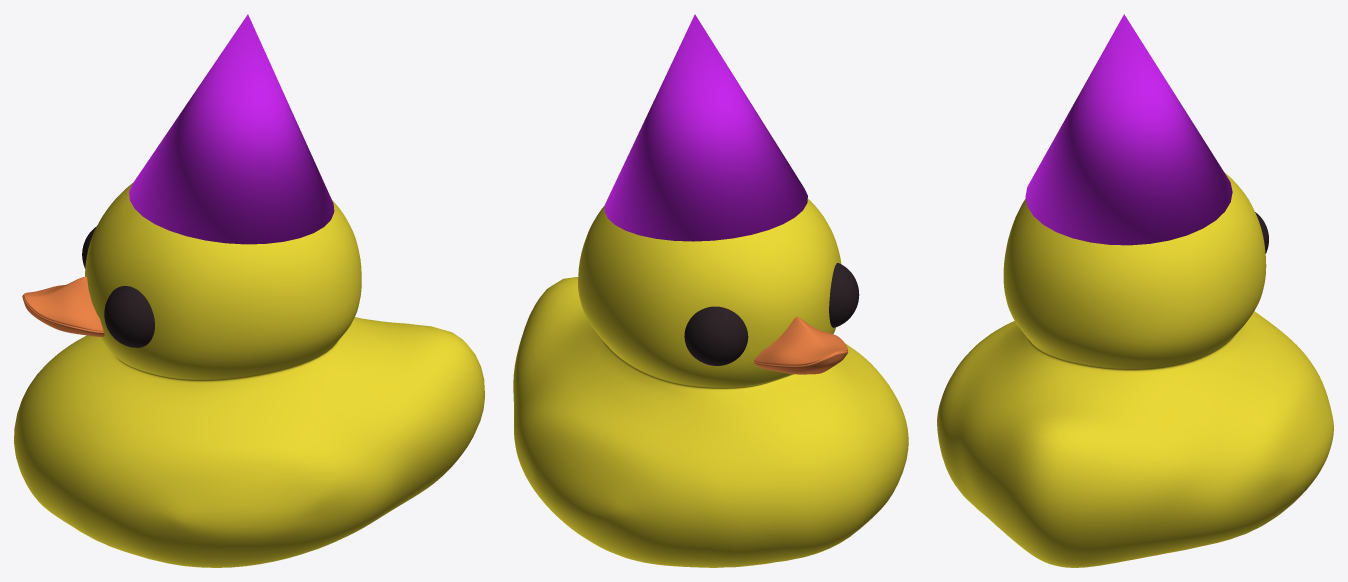
The model's file is ducjk.fbx.
3 views of the same model, side by side, from view 1: azimuth 30°, elevation 25°; view 2: azimuth 150°, elevation 25°; view 3: azimuth 270°, elevation 25° (orthographic).
Visible parts, largest first — view 1: BezierCurve.001, Cone; view 2: BezierCurve.001, Cone; view 3: BezierCurve.001, Cone.
Part boxes in pixels (left/top/right/bottom): BezierCurve.001: left=14, top=183, right=484, bottom=567; Cone: left=129, top=14, right=334, bottom=244; BezierCurve.001: left=513, top=198, right=908, bottom=567; Cone: left=604, top=14, right=807, bottom=241; BezierCurve.001: left=937, top=172, right=1333, bottom=567; Cone: left=1025, top=14, right=1232, bottom=245.
Bounding box in the file's own units: 663 × 809 × 574.
